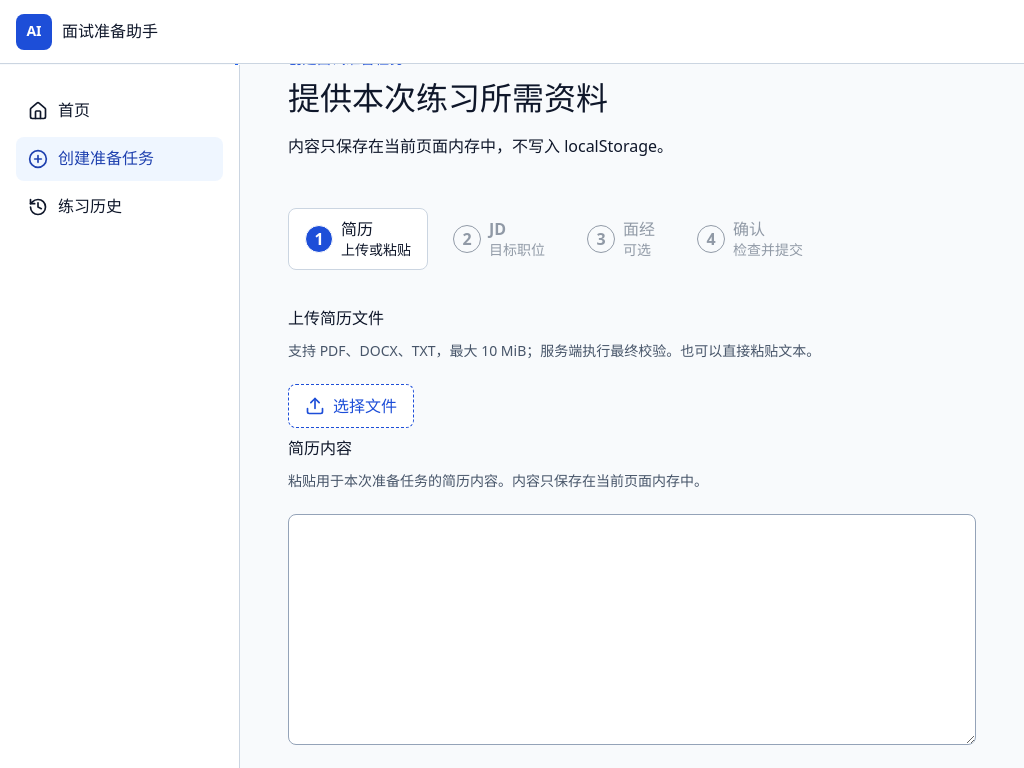
Scenario: Phase 2.5C client boundaries › does not submit while the final Next button becomes the review submit button
(page scrolled)
In the text box labelled "简历内容": (632, 629) [288,514,976,745], type "合成简历内容超过十个字符用于测试"
(page scrolled)
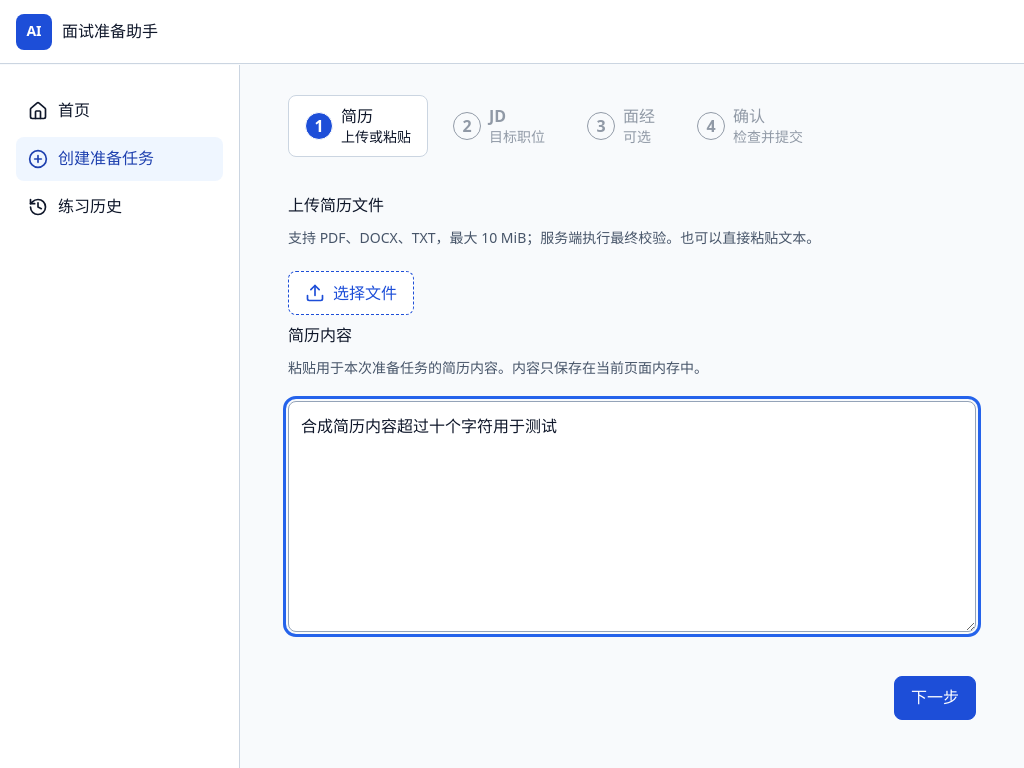
Click the button "下一步": click(935, 698) [894,676,976,720]
(page scrolled)
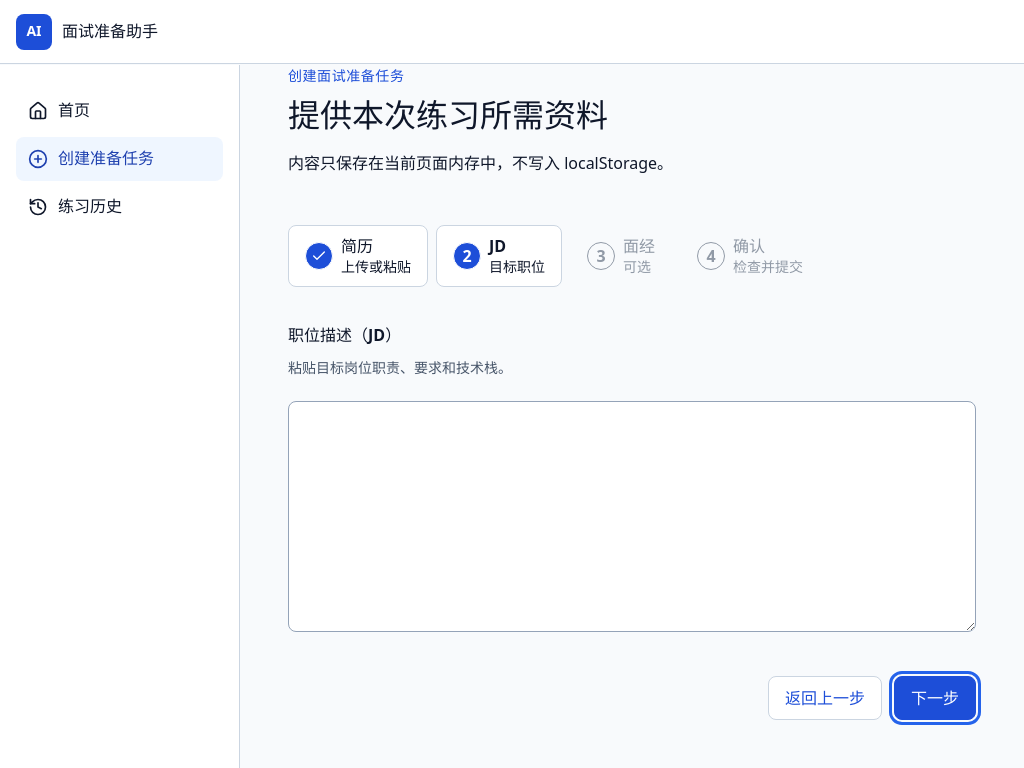
In the text box labelled "职位描述（JD）": (632, 516) [288,401,976,632], type "合成职位描述超过十个字符用于测试"
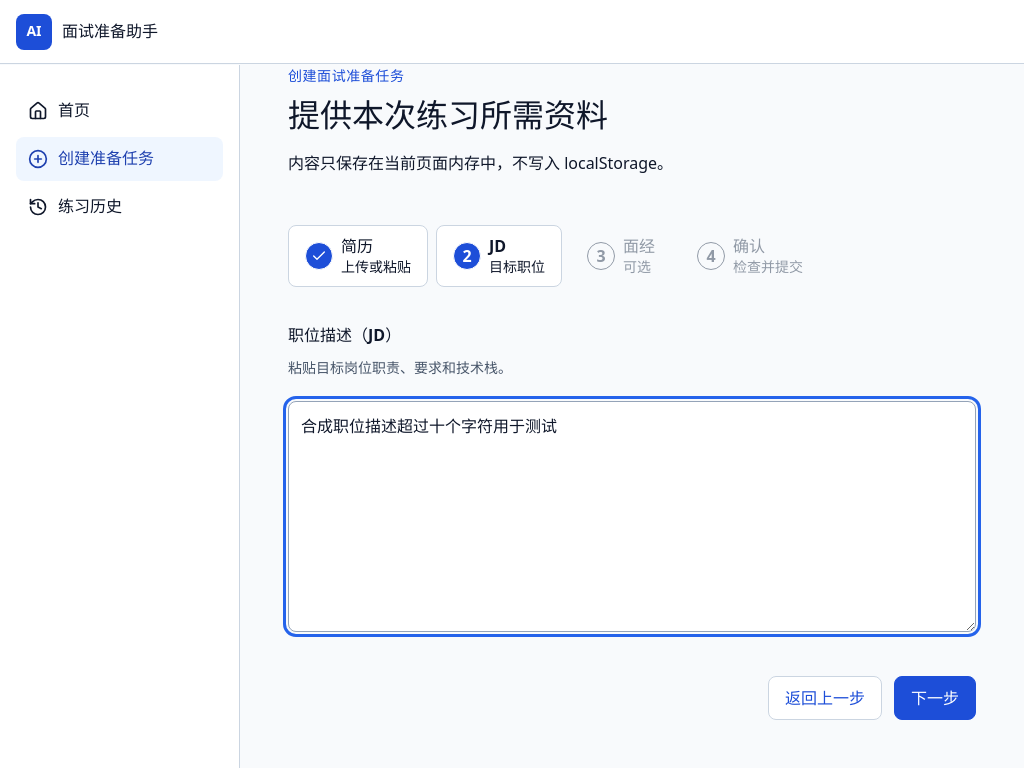
Click the button "下一步": click(935, 698) [894,676,976,720]
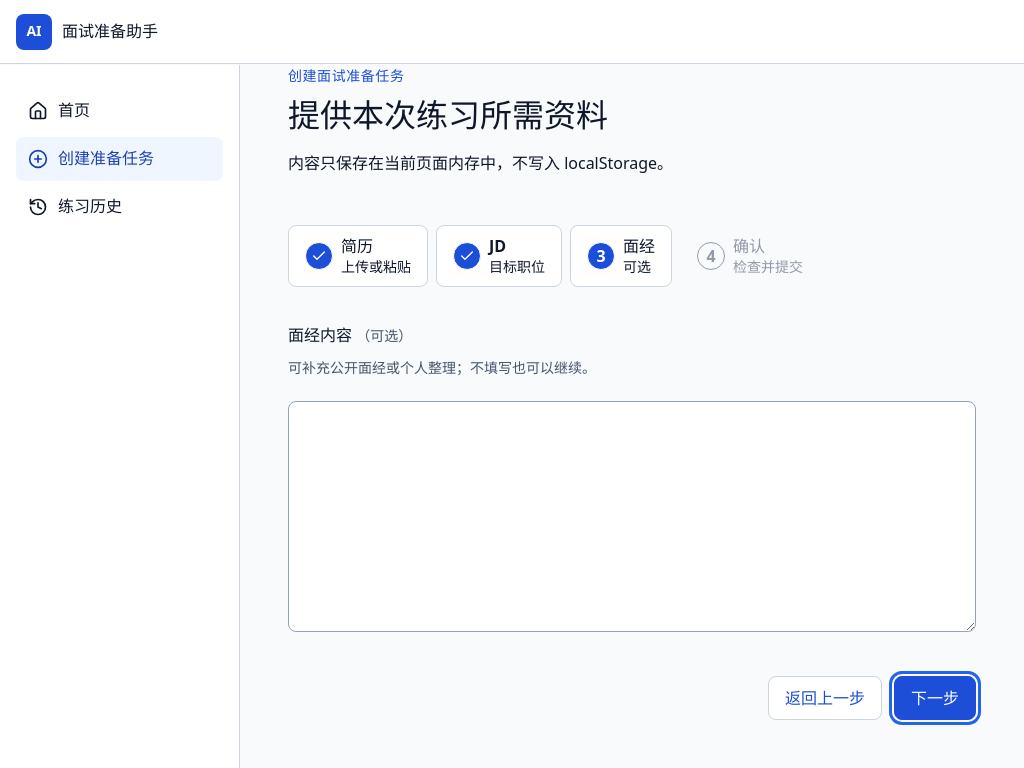
Click the button "下一步": click(935, 698) [894,676,976,720]
(page scrolled)
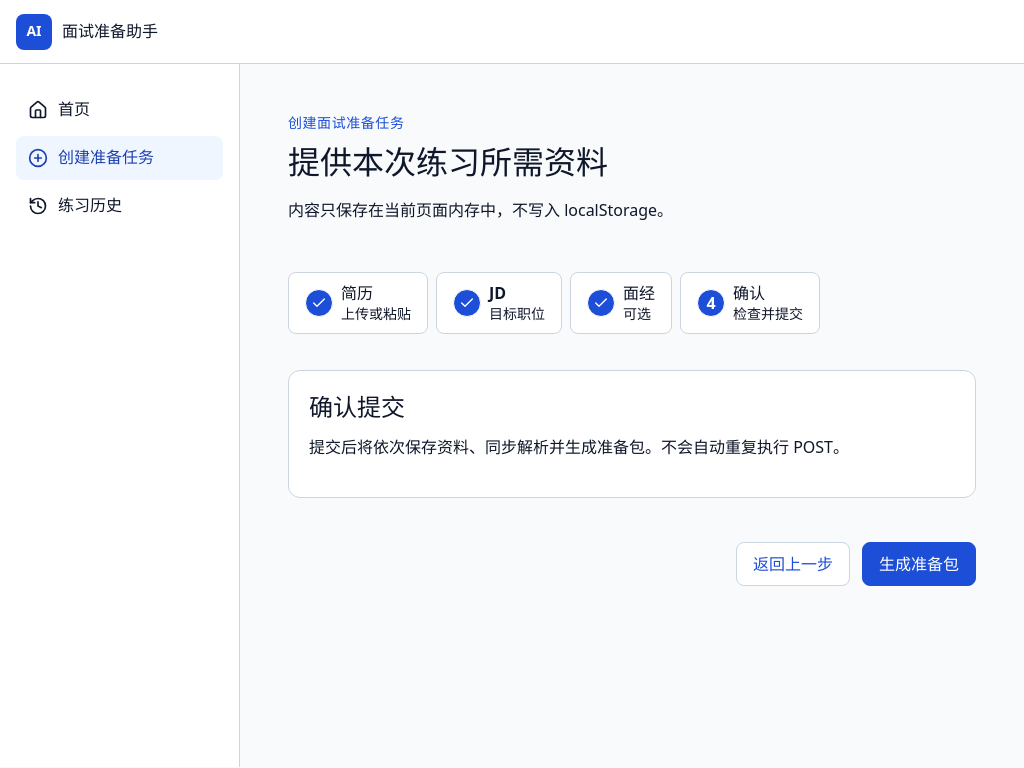
Expected: the button "生成准备包" is enabled, [862,542,976,586]
Result: the heading "确认提交" is shown at [309,390,405,423]
